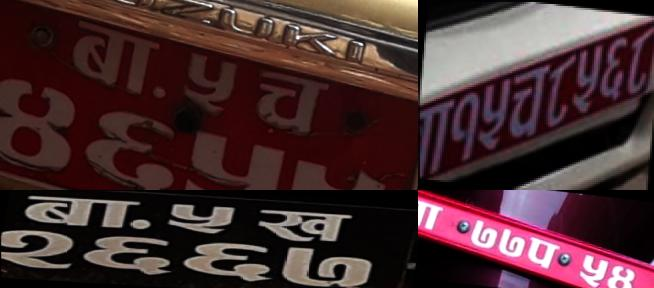0: (20, 195, 138, 230)
1: (1, 227, 79, 270), (444, 88, 481, 162)
4: (0, 66, 86, 185), (180, 240, 280, 283), (79, 233, 178, 275), (604, 262, 636, 288)
5: (176, 120, 288, 190), (174, 41, 244, 120), (476, 75, 511, 150), (568, 41, 603, 113), (578, 251, 607, 288)
6: (78, 94, 188, 190), (165, 202, 237, 235), (599, 33, 628, 100)
7: (276, 245, 378, 288), (495, 227, 526, 259), (468, 218, 498, 249)
8: (541, 50, 576, 127), (624, 23, 653, 91)
9: (279, 146, 392, 190)
ba: (63, 12, 165, 105), (419, 95, 449, 180), (418, 194, 439, 231)
cha: (246, 60, 334, 145), (503, 61, 546, 141)
ja: (251, 207, 352, 244)
pa: (525, 233, 559, 272)
